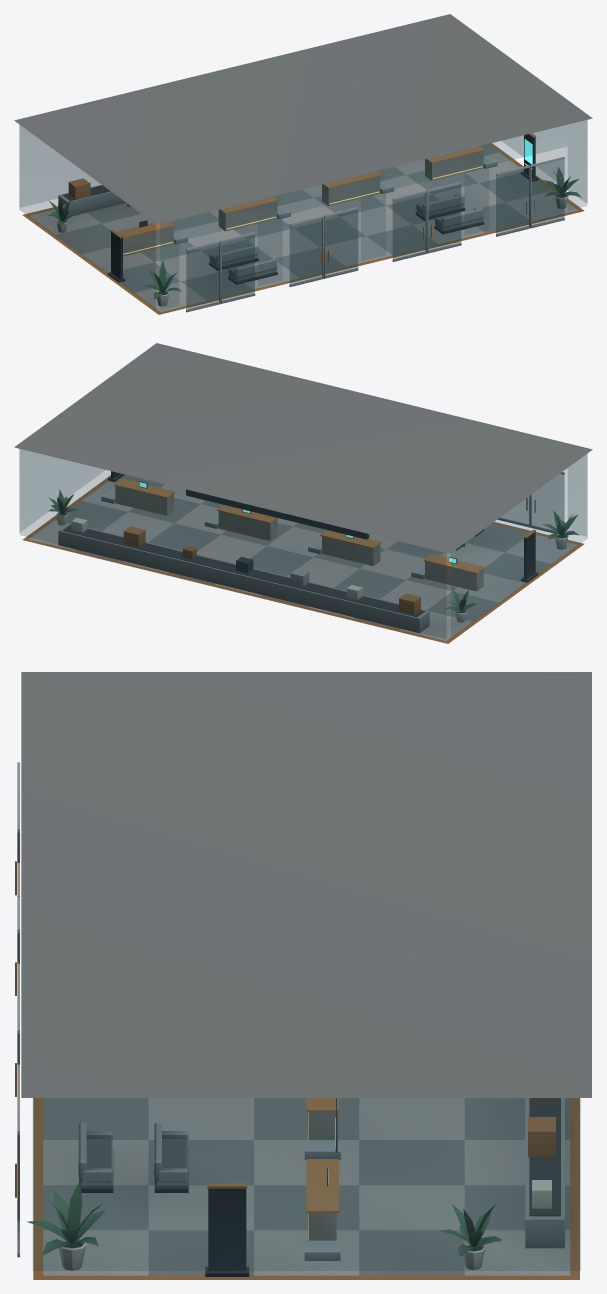
Rendered from lobby-missions.lod1.glb.
3 views of the same model, one above another, from view 1: azimuth 30°, elevation 25°; view 2: azimuth 150°, elevation 25°; view 3: azimuth 270°, elevation 25° (orthographic). The views are drawn at different scales.
Parts seen in each view (by area): view 1: structure, door_2_l, door_0_r, door_3_l, door_0_l, door_3_r, door_1_l, door_1_r, door_2_r, foliage; view 2: structure, door_0_l, foliage, door_0_r; view 3: structure, foliage.
Boxes of the visible parts, left/top/right/bottom form: structure: left=14, top=14, right=592, bottom=314; door_2_l: left=392, top=190, right=427, bottom=261; door_0_r: left=220, top=232, right=255, bottom=303; door_3_l: left=496, top=165, right=530, bottom=236; door_0_l: left=186, top=240, right=220, bottom=312; door_3_r: left=530, top=157, right=564, bottom=228; door_1_l: left=289, top=215, right=323, bottom=286; door_1_r: left=324, top=207, right=358, bottom=278; door_2_r: left=427, top=182, right=461, bottom=253; foliage: left=48, top=167, right=581, bottom=299; structure: left=14, top=343, right=592, bottom=643; door_0_l: left=530, top=472, right=564, bottom=533; foliage: left=48, top=489, right=579, bottom=613; door_0_r: left=497, top=495, right=530, bottom=527; structure: left=21, top=672, right=591, bottom=1279; foliage: left=27, top=1180, right=502, bottom=1256.
Bounding box in the file's own units: 25.36 × 5.22 × 14.53.
